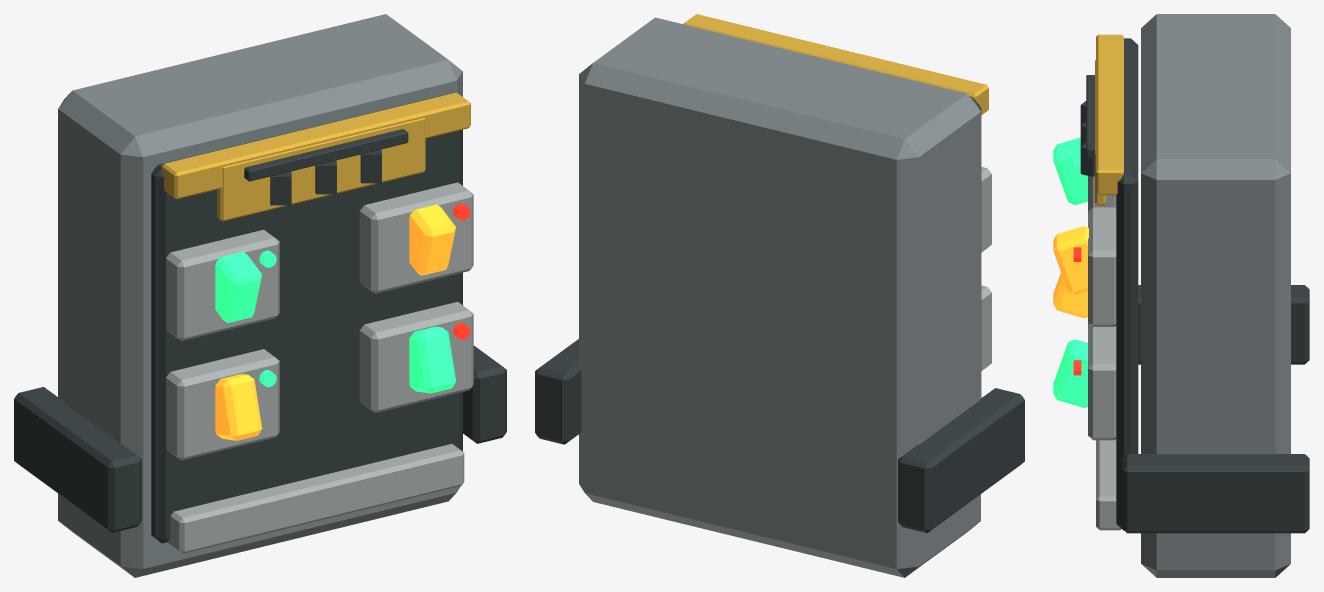
File: repair_junction.glb
3 renders of one model, left to right at view 1: azimuth 30°, elevation 25°; view 2: azimuth 150°, elevation 25°; view 3: azimuth 270°, elevation 25°, orthographic. The views are drawn at different scales.
Parts seen in each view (by area): view 1: repair_junction_housing, repair_junction_face_frame, repair_junction_lower_rail, repair_junction_mount_0, repair_junction_top_rail, repair_junction_breaker_0_1_base, repair_junction_breaker_1_1_base, repair_junction_breaker_0_0_base, repair_junction_breaker_1_0_base, repair_junction_warning_plate, repair_junction_mount_1, repair_junction_breaker_1_0_lever (+7 smaller); view 2: repair_junction_housing, repair_junction_mount_0, repair_junction_top_rail, repair_junction_mount_1, repair_junction_breaker_0_0_base, repair_junction_breaker_1_0_base; view 3: repair_junction_housing, repair_junction_mount_1, repair_junction_face_frame, repair_junction_top_rail, repair_junction_breaker_1_1_base, repair_junction_breaker_0_1_base, repair_junction_lower_rail, repair_junction_breaker_1_1_lever, repair_junction_breaker_0_1_lever, repair_junction_mount_0, repair_junction_breaker_1_0_lever, repair_junction_breaker_0_0_lever (+3 smaller).
Boxes of the visible parts, x1,y1,x2,y2 form: repair_junction_housing: (58, 14, 462, 577); repair_junction_face_frame: (151, 93, 462, 543); repair_junction_lower_rail: (168, 444, 464, 553); repair_junction_mount_0: (14, 387, 141, 532); repair_junction_top_rail: (162, 92, 470, 199); repair_junction_breaker_0_1_base: (359, 301, 473, 413); repair_junction_breaker_1_1_base: (359, 182, 473, 293); repair_junction_breaker_0_0_base: (166, 349, 279, 460); repair_junction_breaker_1_0_base: (166, 229, 279, 340); repair_junction_warning_plate: (217, 118, 425, 221); repair_junction_mount_1: (463, 345, 506, 443); repair_junction_breaker_1_0_lever: (215, 252, 262, 322); repair_junction_housing: (579, 17, 980, 577); repair_junction_mount_0: (898, 388, 1024, 533); repair_junction_top_rail: (683, 14, 988, 114); repair_junction_mount_1: (535, 339, 581, 444); repair_junction_breaker_0_0_base: (981, 285, 991, 370); repair_junction_breaker_1_0_base: (981, 167, 991, 252); repair_junction_housing: (1141, 14, 1290, 577); repair_junction_mount_1: (1122, 454, 1309, 533); repair_junction_face_frame: (1116, 38, 1138, 530); repair_junction_top_rail: (1096, 34, 1123, 195); repair_junction_breaker_1_1_base: (1088, 207, 1116, 326); repair_junction_breaker_0_1_base: (1088, 324, 1116, 440); repair_junction_lower_rail: (1096, 439, 1121, 530); repair_junction_breaker_1_1_lever: (1053, 226, 1088, 294); repair_junction_breaker_0_1_lever: (1053, 339, 1087, 408); repair_junction_mount_0: (1138, 285, 1309, 364); repair_junction_breaker_1_0_lever: (1053, 137, 1087, 205); repair_junction_breaker_0_0_lever: (1053, 272, 1087, 318).
Bounding box in the file's own units: 0.7 × 0.74 × 0.4108.
